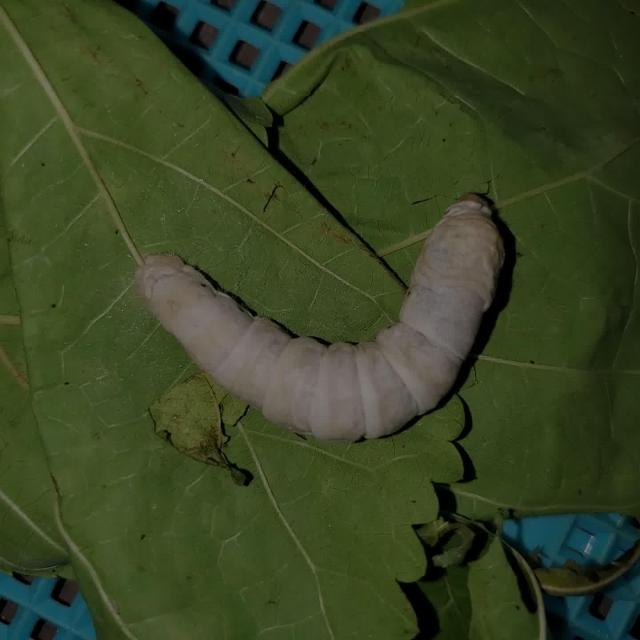Grasserie: (89, 160, 570, 464)
